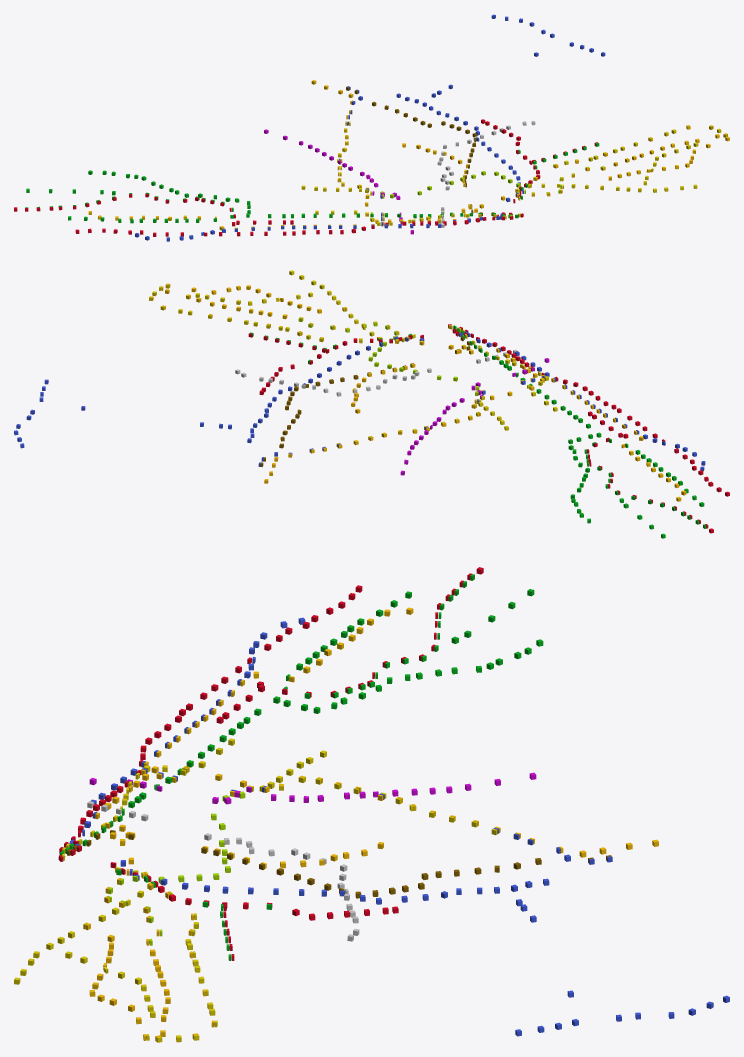
File: subway_map_v5.glb
3 views of the same model, one above another, from view 1: azimuth 30°, elevation 25°; view 2: azimuth 150°, elevation 25°; view 3: azimuth 270°, elevation 25° (orthographic). The views are drawn at different scales.
Size of the model in its own units: 87.6 by 0.5476 by 56.26.
